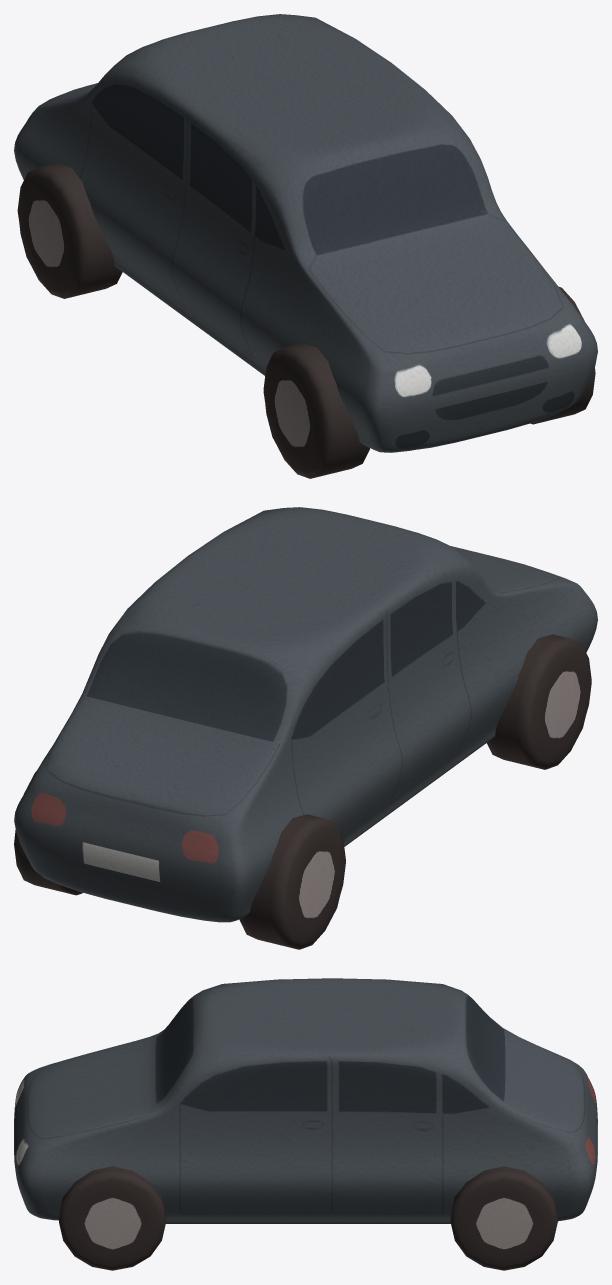
File: car_1.fbx
The picture shows the model from 3 angles, top to bottom: view 1: azimuth 30°, elevation 25°; view 2: azimuth 150°, elevation 25°; view 3: azimuth 270°, elevation 25°; orthographic projection. The views are drawn at different scales.
Parts seen in each view (by area): view 1: pCube46, pCylinder42, pCylinder41, pCylinder39; view 2: pCube46, pCylinder41, pCylinder42, pCylinder40; view 3: pCube46, pCylinder39, pCylinder40.
Part boxes in pixels (bbox=[...]): pCube46: bbox=[14, 14, 597, 452]; pCylinder42: bbox=[263, 343, 369, 478]; pCylinder41: bbox=[17, 163, 122, 298]; pCylinder39: bbox=[530, 286, 595, 424]; pCube46: bbox=[14, 507, 597, 922]; pCylinder41: bbox=[239, 814, 345, 949]; pCylinder42: bbox=[487, 634, 591, 769]; pCylinder40: bbox=[14, 771, 82, 895]; pCube46: bbox=[14, 978, 597, 1223]; pCylinder39: bbox=[59, 1166, 166, 1270]; pCylinder40: bbox=[450, 1166, 557, 1270].
Bounding box in the file's own units: 92.69 × 83.16 × 215.
2 materials, 2 textured.
